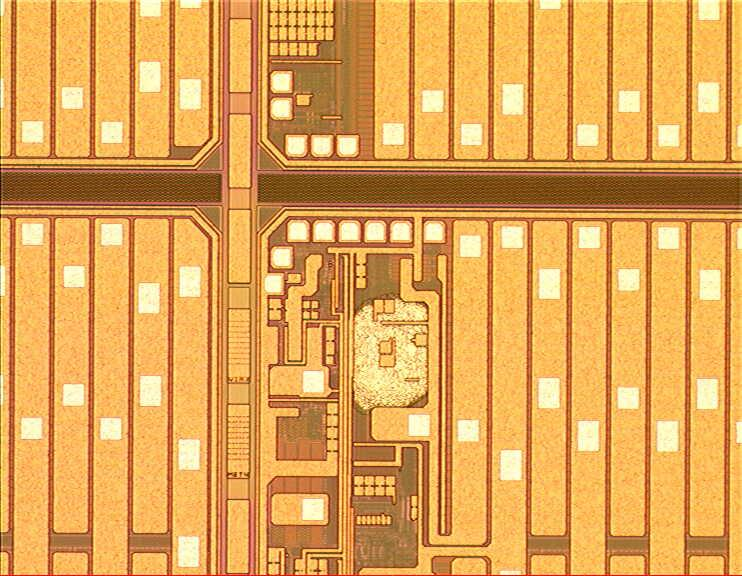BLOCK ETCH: (346, 292, 440, 421)
